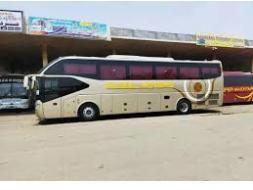bus: (33, 57, 227, 120)
